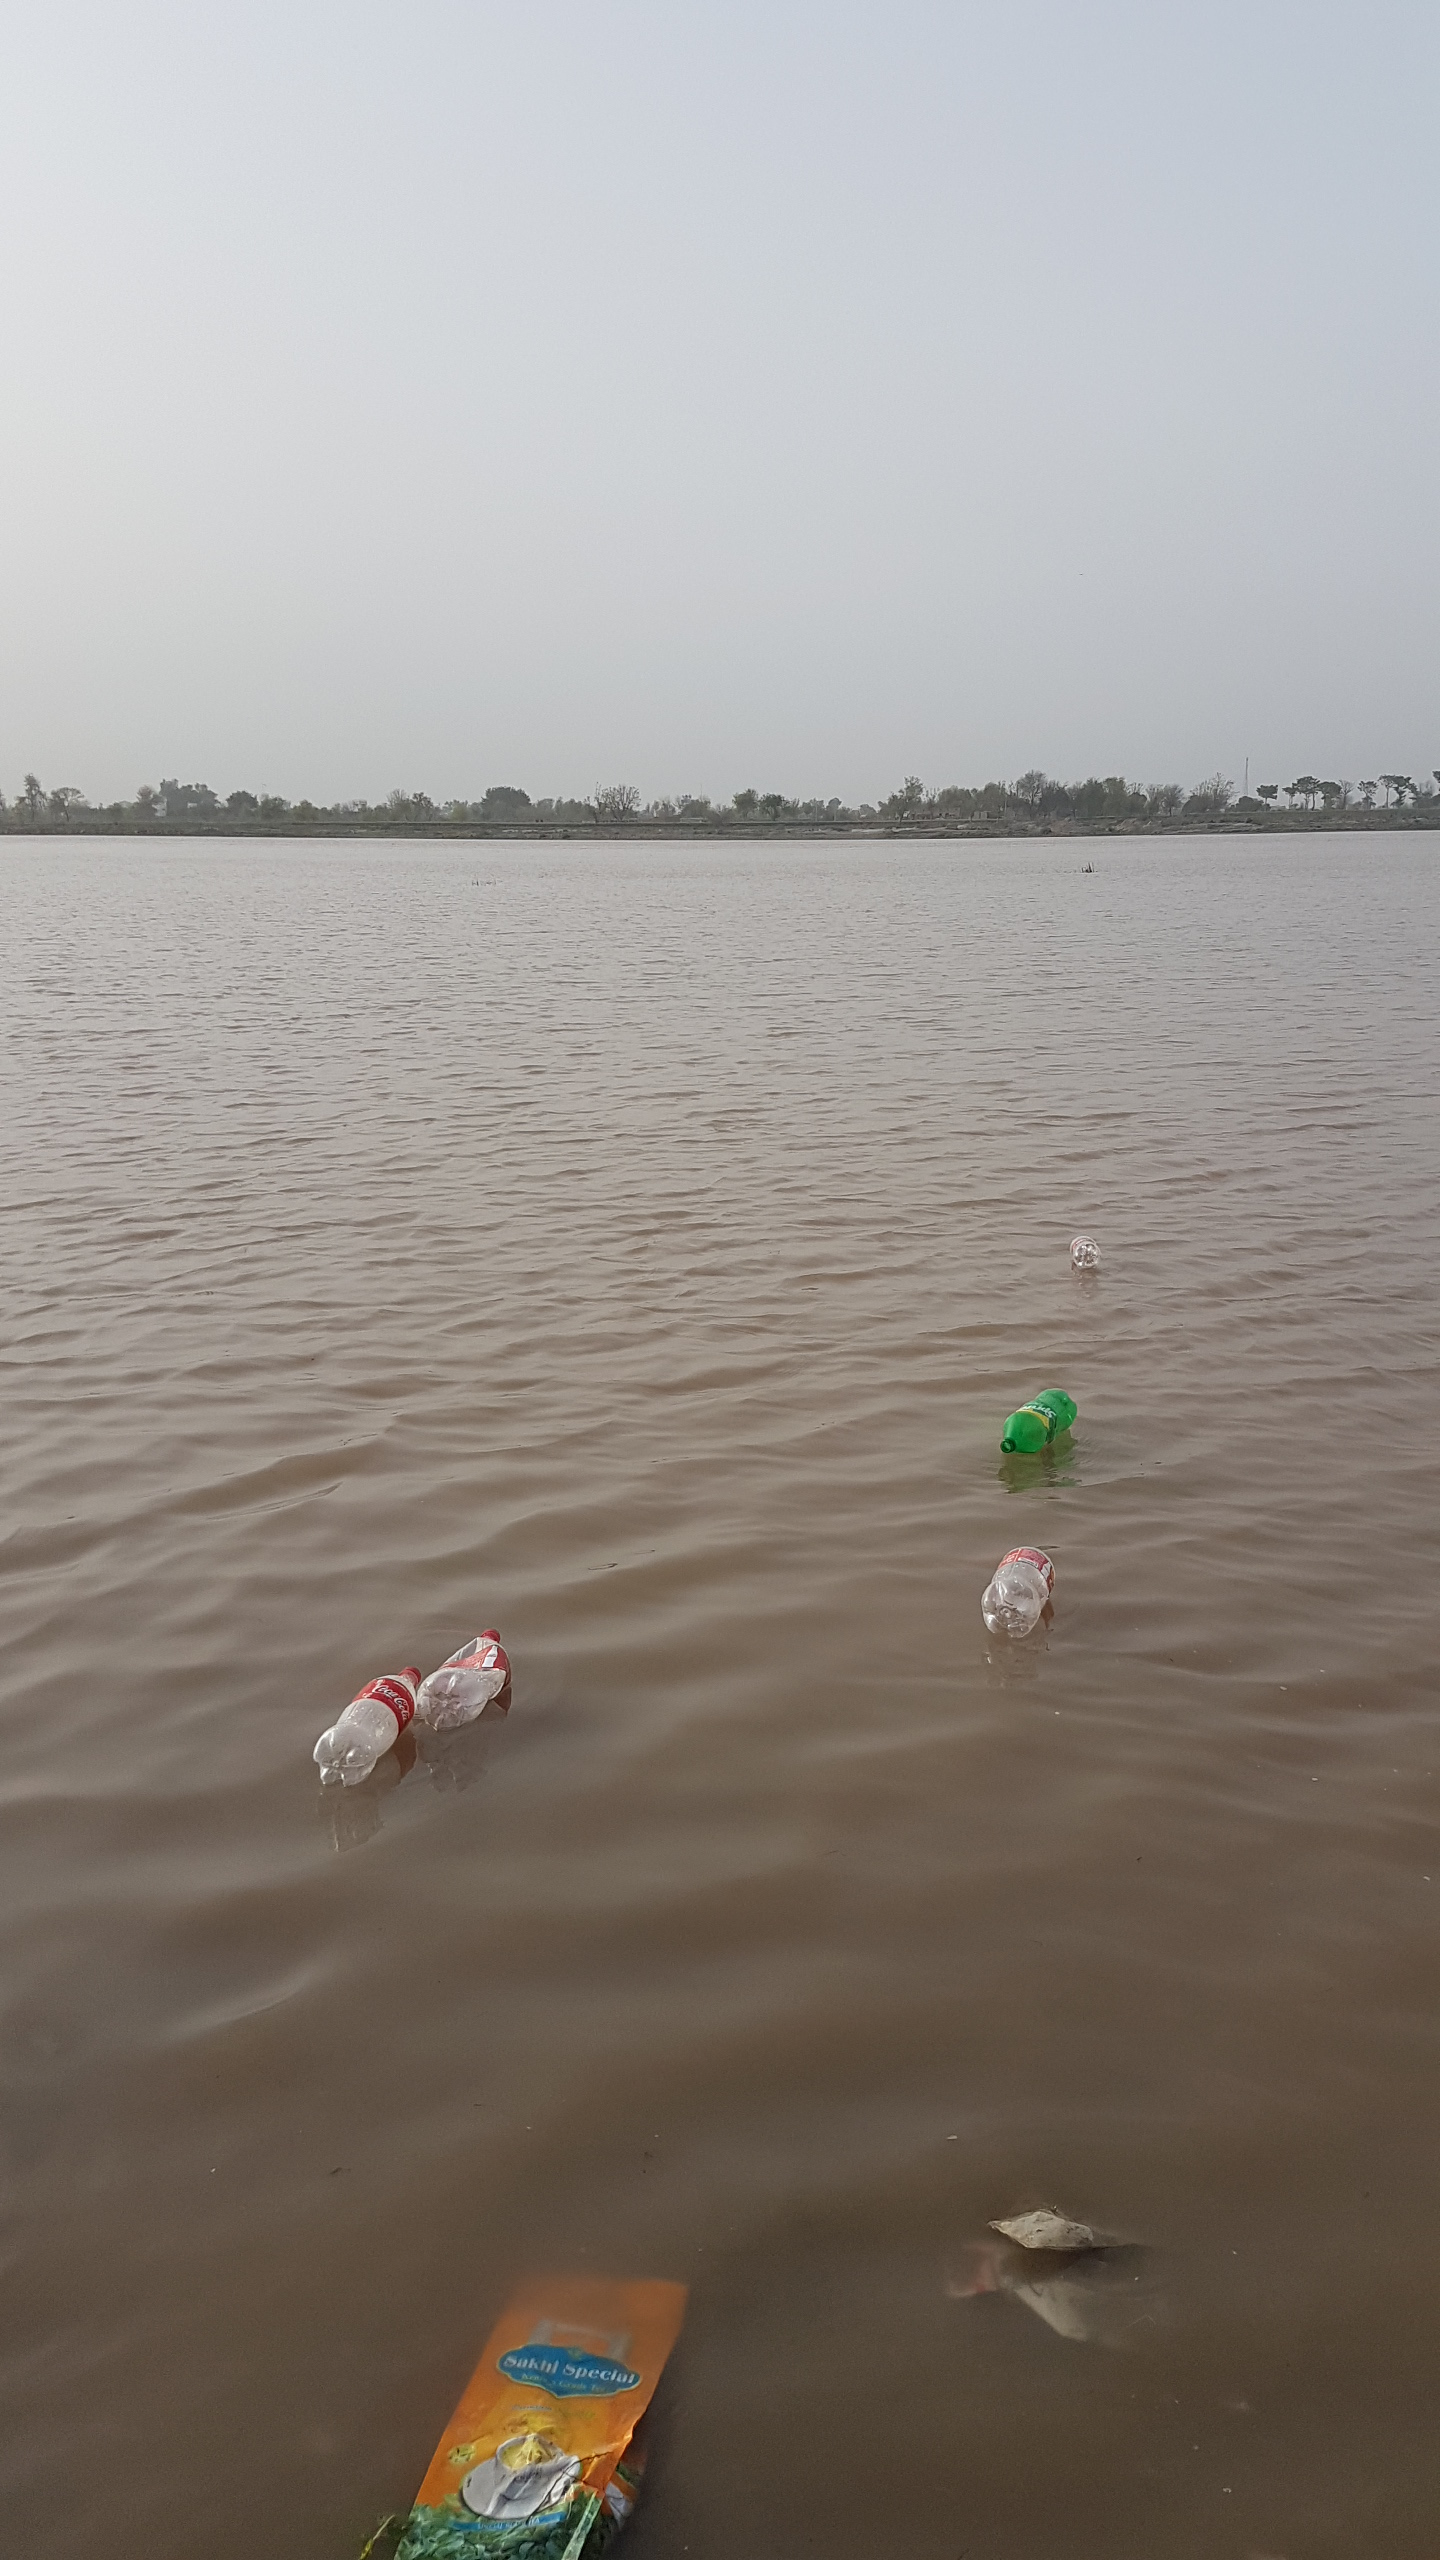Plastic Bottle: (311, 1665, 422, 1788), (415, 1628, 512, 1732), (983, 1545, 1057, 1639), (1000, 1387, 1078, 1454), (1069, 1234, 1101, 1269)
